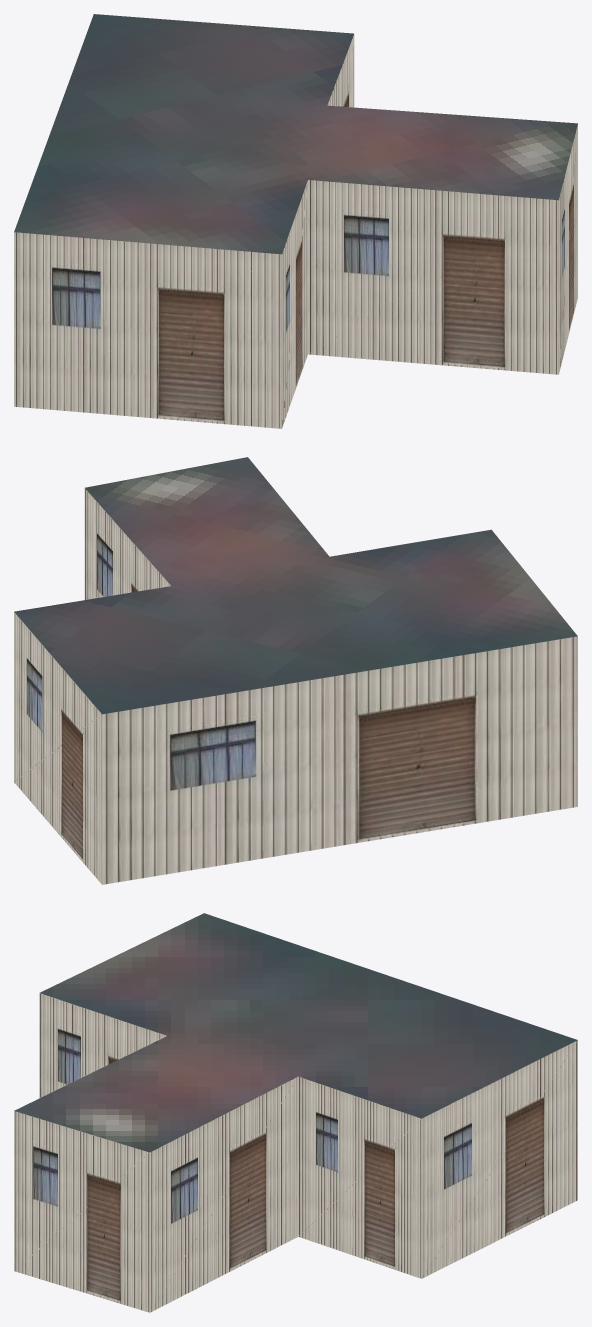
3 renders of one model, top to bottom at view 1: azimuth 30°, elevation 25°; view 2: azimuth 150°, elevation 25°; view 3: azimuth 270°, elevation 25°, orthographic. The views are drawn at different scales.
Parts seen in each view (by area): view 1: SketchUp (×2); view 2: SketchUp (×2); view 3: SketchUp (×2).
Boxes of the visible parts, box(x1,y1,x2,y2) form: SketchUp (×2): box(14, 14, 577, 428); SketchUp (×2): box(14, 457, 577, 884); SketchUp (×2): box(14, 913, 577, 1312).
Size of what is drawn, in the model's own units: 417 by 415 by 130.
Materials: 2 (2 with a texture image).
